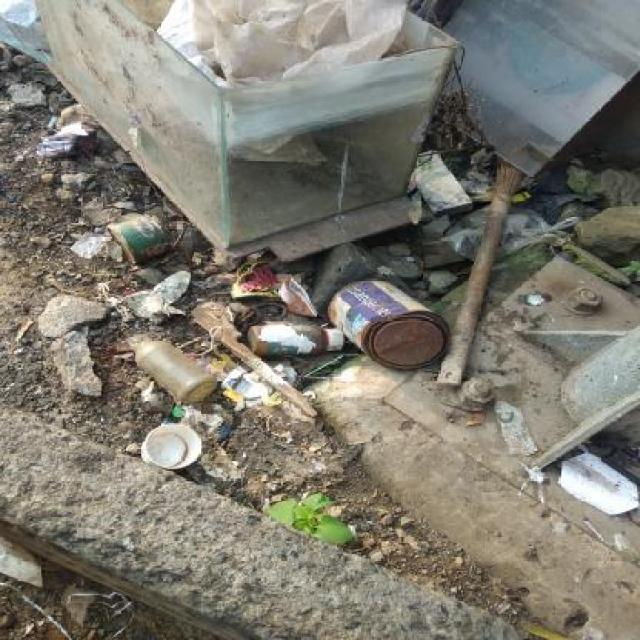garbage: (110, 234, 456, 437), (0, 74, 164, 260), (188, 5, 411, 79), (420, 134, 567, 245), (571, 455, 640, 528)
